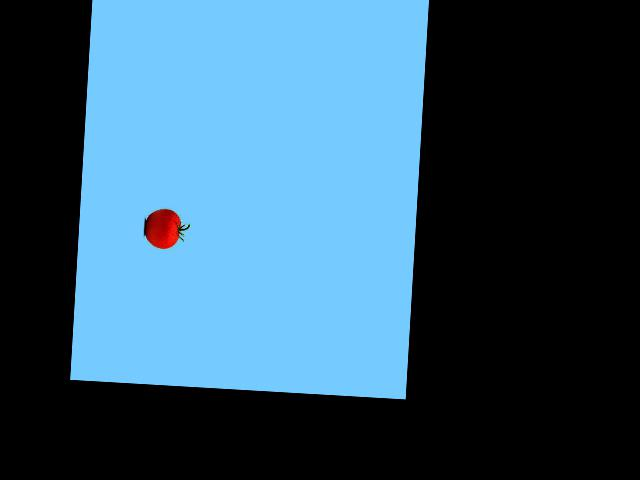tomato: (144, 208, 181, 250)
